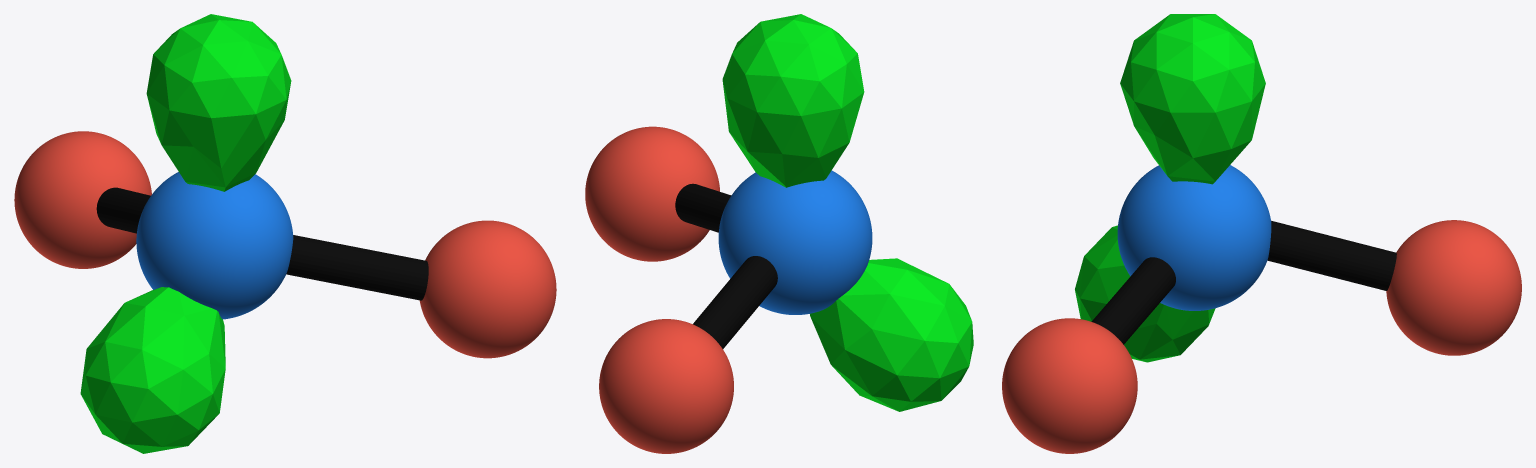
Rendered from Bent (Tetrahedral with 2 lone pair).glb.
3 views of the same model, side by side, from view 1: azimuth 30°, elevation 25°; view 2: azimuth 150°, elevation 25°; view 3: azimuth 270°, elevation 25° (orthographic). The views are drawn at different scales.
Visible parts, largest first — view 1: Icosphere, Icosphere.001, Sphere, Sphere.003, Sphere.001, Cylinder.001, Cylinder; view 2: Icosphere, Icosphere.001, Sphere, Sphere.001, Sphere.003, Cylinder, Cylinder.001; view 3: Icosphere, Sphere, Sphere.003, Sphere.001, Icosphere.001, Cylinder, Cylinder.001.
Boxes of the visible parts, bbox=[...] form: Icosphere: bbox=[146, 14, 291, 191]; Icosphere.001: bbox=[80, 287, 225, 453]; Sphere: bbox=[136, 172, 293, 319]; Sphere.003: bbox=[419, 220, 556, 358]; Sphere.001: bbox=[14, 131, 151, 268]; Cylinder.001: bbox=[286, 235, 428, 300]; Cylinder: bbox=[96, 187, 150, 233]; Icosphere: bbox=[722, 14, 864, 187]; Icosphere.001: bbox=[810, 258, 973, 411]; Sphere: bbox=[718, 170, 872, 314]; Sphere.001: bbox=[599, 319, 733, 453]; Sphere.003: bbox=[585, 126, 719, 261]; Cylinder: bbox=[693, 256, 777, 348]; Cylinder.001: bbox=[675, 183, 731, 232]; Icosphere: bbox=[1120, 14, 1265, 184]; Sphere: bbox=[1117, 165, 1271, 310]; Sphere.003: bbox=[1002, 318, 1137, 453]; Sphere.001: bbox=[1386, 220, 1521, 355]; Icosphere.001: bbox=[1075, 225, 1215, 362]; Cylinder: bbox=[1267, 220, 1396, 290]; Cylinder.001: bbox=[1091, 257, 1175, 344].
Size of the model in its own units: 2.87 by 2.55 by 3.15.
